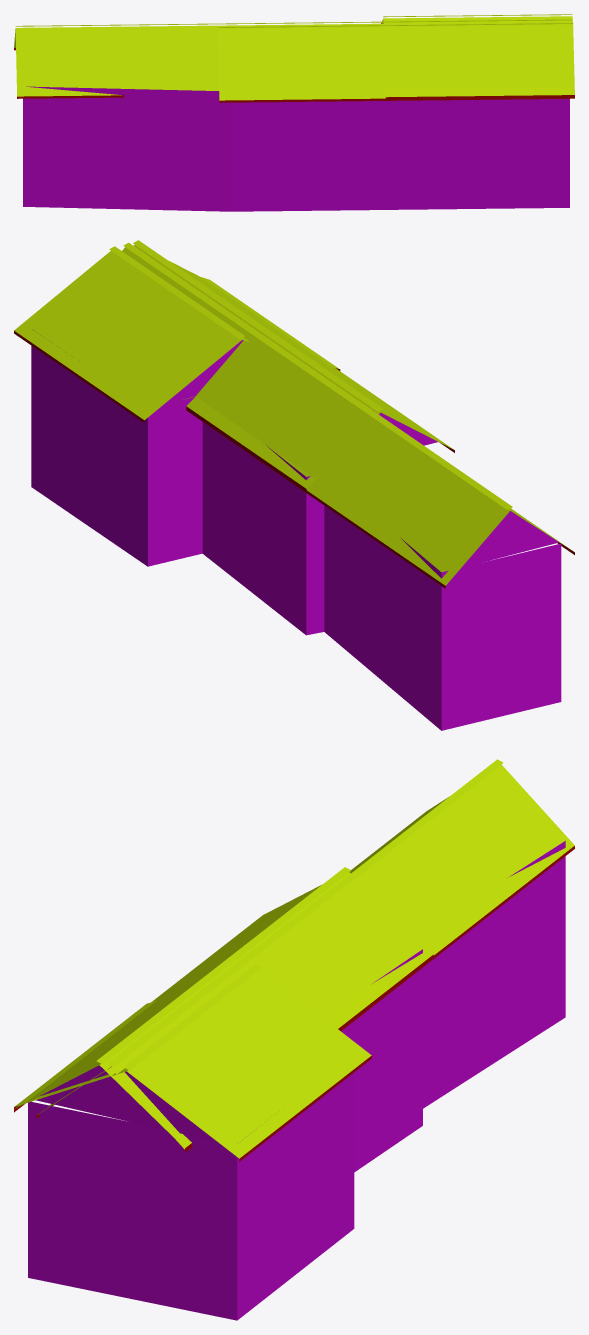
Rendered from rmc_83.glb.
3 renders of one model, top to bottom at view 1: azimuth 30°, elevation 25°; view 2: azimuth 150°, elevation 25°; view 3: azimuth 270°, elevation 25°, orthographic. The views are drawn at different scales.
Visible parts, largest first — view 1: rmc_83; view 2: rmc_83; view 3: rmc_83.
Part boxes in pixels (x1=…): rmc_83: x1=14, y1=14, x2=574, y2=211; rmc_83: x1=14, y1=240, x2=574, y2=730; rmc_83: x1=14, y1=759, x2=574, y2=1320.
Bounding box in the file's own units: 27.04 × 8.47 × 18.27.
